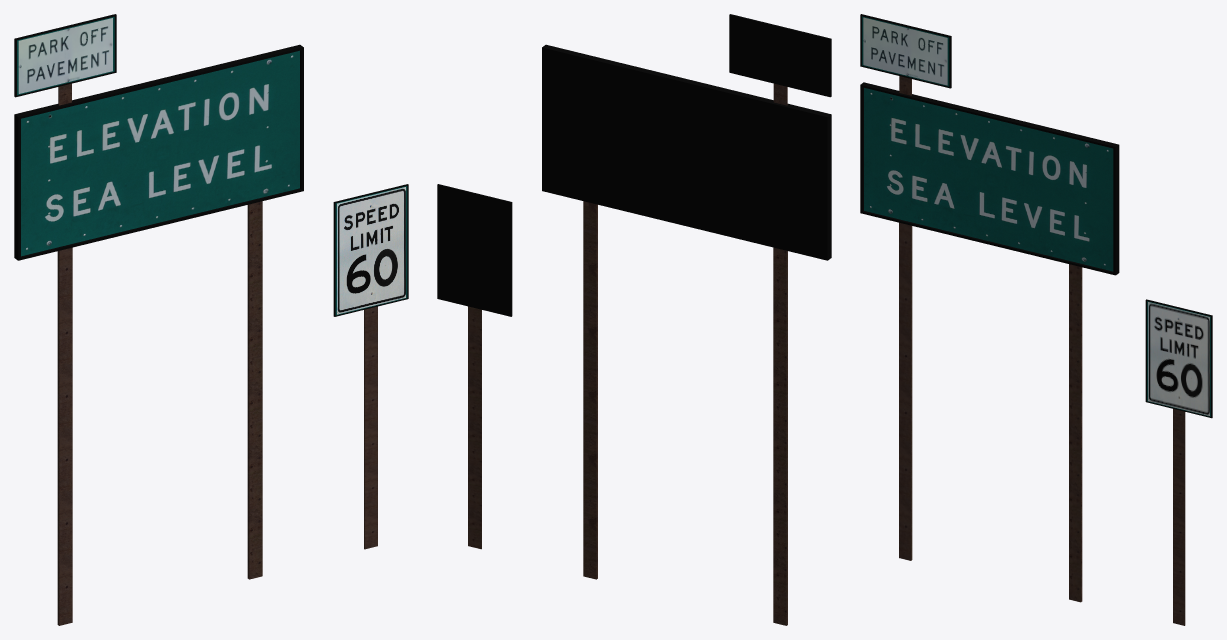
The model's file is fbxSign.fbx.
3 renders of one model, left to right at view 1: azimuth 30°, elevation 25°; view 2: azimuth 150°, elevation 25°; view 3: azimuth 330°, elevation 25°, orthographic. The views are drawn at different scales.
Parts seen in each view (by area): view 1: sign2, sign3; view 2: sign2, sign3; view 3: sign2, sign3.
Boxes of the visible parts, x1,y1,x2,y2 form: sign2: (14, 14, 303, 625); sign3: (333, 184, 408, 549); sign2: (542, 14, 831, 625); sign3: (437, 184, 512, 549); sign2: (860, 14, 1119, 602); sign3: (1145, 299, 1212, 625).
Size of the model in its own units: 29.9 by 43.36 by 0.5143.
Materials: 5 (4 with a texture image).
